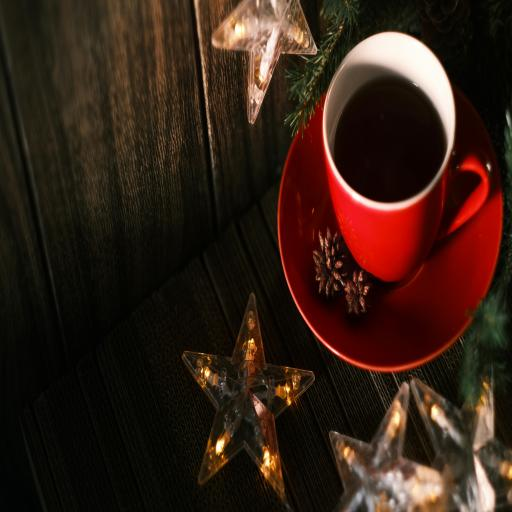cup: (323, 29, 490, 289)
